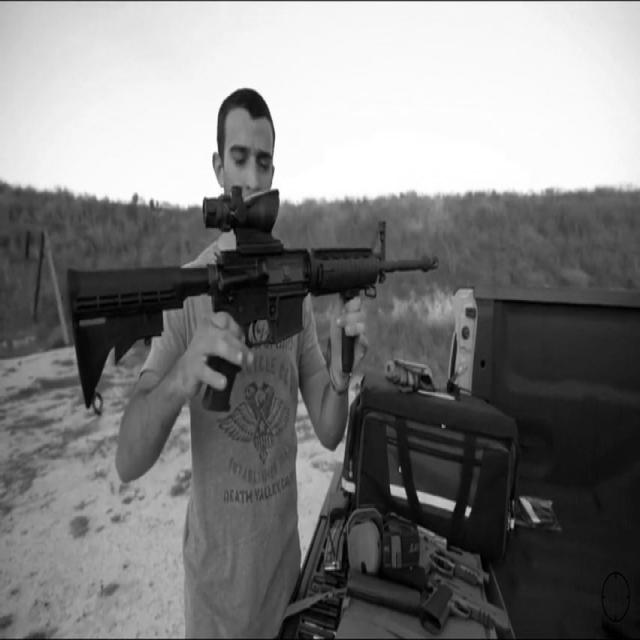Sniper: (21, 140, 476, 480)
